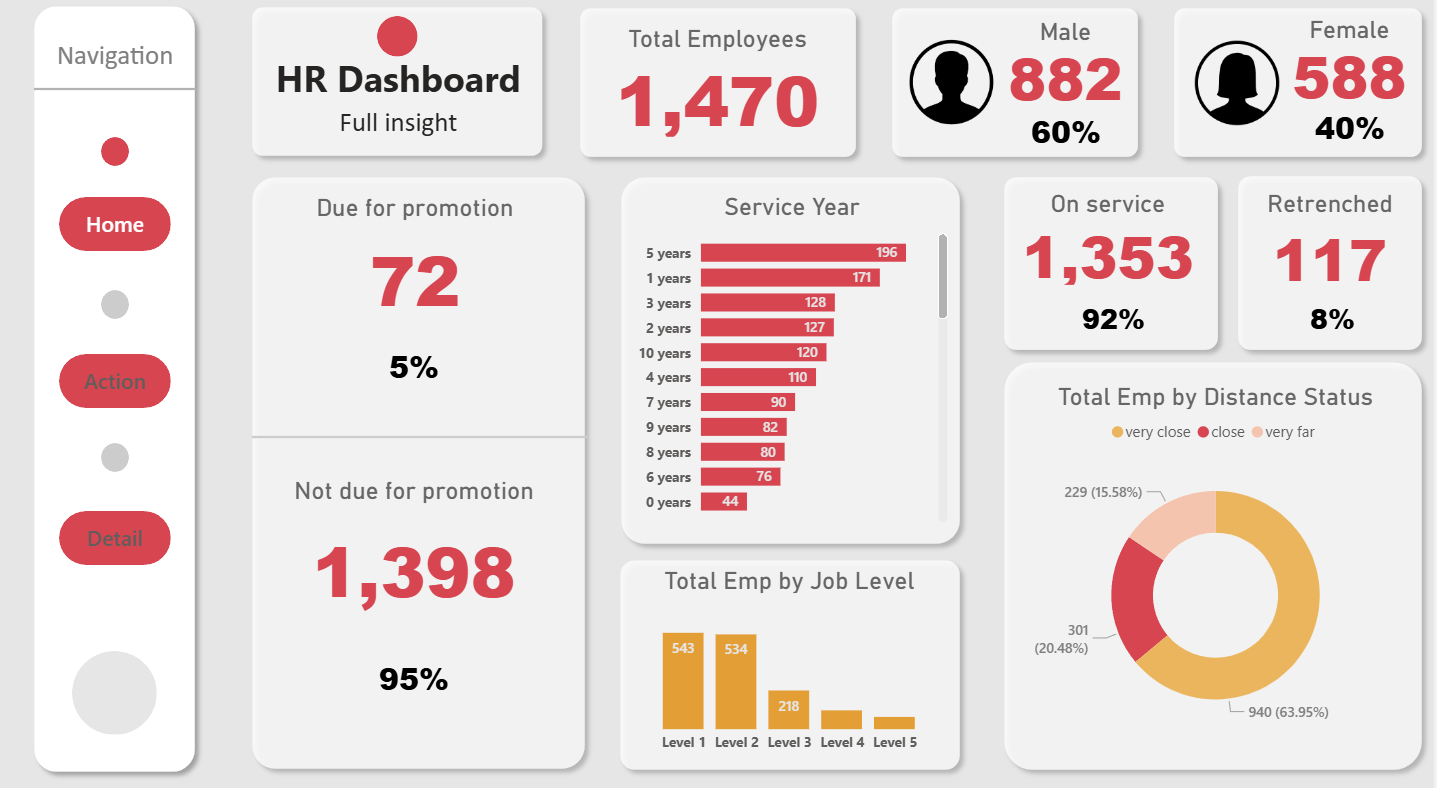

This screenshot's page, from the dashboard's own definition file:
{"tool":"powerbi","page":{"name":"Home","canvas":[1280,720],"ordinal":0},"visuals":[{"type":"shape","box":[31.9,8.9,160.5,696.9],"z":0},{"type":"shape","box":[225.4,9.7,275.3,149.8],"z":1000},{"type":"shape","box":[516.1,10.6,262.5,149.9],"z":2000},{"type":"shape","box":[792.7,10.6,235.9,149.9],"z":3000},{"type":"shape","box":[1042.8,10.6,237.6,149.9],"z":4000},{"type":"shape","box":[225.2,160.5,313,542.7],"z":5000},{"type":"shape","box":[552.4,160.5,318.3,343.2],"z":6000},{"type":"shape","box":[551.5,500.1,319.2,203.9],"z":7000},{"type":"shape","box":[892,160.5,207.5,171.1],"z":8000},{"type":"shape","box":[1099.5,159.6,180.9,172],"z":9000},{"type":"shape","box":[892,324.5,388.4,379.5],"z":10000},{"type":"textbox","box":[240,54.5,247.1,59.3],"z":11000},{"type":"textbox","box":[240,100.2,247.1,59.3],"z":12000},{"type":"shape","box":[345,26.3,36,36],"z":13000},{"type":"card","title":"Total Employees","fields":{"Values":["All Measures.Total Emp"]},"box":[538.2,33.7,217.2,104.6],"z":14000},{"type":"card","title":"Male","fields":{"Values":["All Measures.Male"]},"box":[899.1,27.5,112.6,80.7],"z":15000},{"type":"card","title":"Male","fields":{"Values":["All Measures.% male"]},"box":[910.6,68.3,90.4,123.3],"z":16000},{"type":"card","title":"Female","fields":{"Values":["All Measures.Female"]},"box":[1150.9,25.7,112.6,80.7],"z":17000},{"type":"card","title":"Male","fields":{"Values":["All Measures.% female"]},"box":[1162.5,64.7,90.4,123.3],"z":18000},{"type":"image","box":[808.7,41.7,90.4,86.9],"z":19000},{"type":"image","box":[1064,43.4,86.9,85.1],"z":20000},{"type":"card","title":"Due for promotion","fields":{"Values":["All Measures.Due for promotion"]},"box":[211,183.5,335.2,125],"z":21000},{"type":"card","title":"Male","fields":{"Values":["All Measures.% due for promotion"]},"box":[332.5,276.7,90.4,123.3],"z":22000},{"type":"card","title":"Not due for promotion","fields":{"Values":["All Measures.Not Due for promotion"]},"box":[250.9,434.5,253.6,138.3],"z":23000},{"type":"card","title":"Male","fields":{"Values":["All Measures.% Not due"]},"box":[332.5,553.3,90.4,123.3],"z":24000},{"type":"shape","box":[234.1,389.3,297.9,21.3],"z":25000},{"type":"barChart","title":"Service Year","fields":{"Category":["HR Analytics Data.Service Year"],"Y":["All Measures.Total Emp"]},"box":[570.1,182.7,285.5,297.9],"z":26000},{"type":"columnChart","fields":{"Category":["HR Analytics Data.Job Level"],"Y":["All Measures.Total Emp"]},"box":[574.6,514.3,272.2,174.7],"z":27000},{"type":"card","title":"On service","fields":{"Values":["All Measures.On service"]},"box":[910.6,180,164.9,90.4],"z":28000},{"type":"card","title":"Male","fields":{"Values":["All Measures.% on service"]},"box":[960.3,241.2,75.4,110],"z":29000},{"type":"card","title":"Retrenched","fields":{"Values":["All Measures.retrench"]},"box":[1107.5,180,164.9,96.7],"z":30000},{"type":"card","title":"Male","fields":{"Values":["All Measures.retrench %"]},"box":[1154.5,241.2,75.4,110],"z":31000},{"type":"donutChart","fields":{"Category":["HR Analytics Data.Distance Status"],"Y":["All Measures.Total Emp"]},"box":[919.5,351.1,337.8,325.4],"z":32000},{"type":"textbox","box":[55.9,40.8,119.7,39.9],"z":33000},{"type":"shape","box":[40.8,83.3,143.6,16],"z":34000},{"type":"shape","box":[100.2,133.9,24.8,25.7],"z":36000},{"type":"actionButton","title":"Home","box":[63,326.3,99.3,47.9],"z":37000},{"type":"shape","box":[100.2,269.6,24.8,25.7],"z":38000},{"type":"actionButton","title":"Home","box":[63,187.1,99.3,47.9],"z":38001},{"type":"shape","box":[100.2,405.2,24.8,25.7],"z":38003},{"type":"shape","box":[74.5,589.7,75.4,74.5],"z":38004},{"type":"actionButton","title":"Home","box":[63,465.5,99.3,47.9],"z":38005}]}

Visuals, with their boxes in screenshot pixels (x1, y1, x2, y2), scaled from the page's 1280x720 canvas onto the 1437x788 screenshot:
shape: BBox(36, 10, 216, 772)
shape: BBox(253, 11, 562, 175)
shape: BBox(579, 12, 874, 176)
shape: BBox(890, 12, 1155, 176)
shape: BBox(1171, 12, 1436, 176)
shape: BBox(253, 176, 604, 770)
shape: BBox(620, 176, 977, 551)
shape: BBox(619, 547, 977, 770)
shape: BBox(1001, 176, 1234, 363)
shape: BBox(1234, 175, 1436, 363)
shape: BBox(1001, 355, 1436, 770)
textbox: BBox(269, 60, 547, 125)
textbox: BBox(269, 110, 547, 175)
shape: BBox(387, 29, 428, 68)
"Total Employees" card: BBox(604, 37, 848, 151)
"Male" card: BBox(1009, 30, 1136, 118)
"Male" card: BBox(1022, 75, 1124, 210)
"Female" card: BBox(1292, 28, 1418, 116)
"Male" card: BBox(1305, 71, 1407, 206)
image: BBox(908, 46, 1009, 141)
image: BBox(1195, 47, 1292, 141)
"Due for promotion" card: BBox(237, 201, 613, 338)
"Male" card: BBox(373, 303, 475, 438)
"Not due for promotion" card: BBox(282, 476, 566, 627)
"Male" card: BBox(373, 606, 475, 741)
shape: BBox(263, 426, 597, 449)
"Service Year" barChart: BBox(640, 200, 961, 526)
columnChart - HR Analytics Data.Job Level x All Measures.Total Emp: BBox(645, 563, 951, 754)
"On service" card: BBox(1022, 197, 1207, 296)
"Male" card: BBox(1078, 264, 1163, 384)
"Retrenched" card: BBox(1243, 197, 1428, 303)
"Male" card: BBox(1296, 264, 1381, 384)
donutChart - HR Analytics Data.Distance Status x All Measures.Total Emp: BBox(1032, 384, 1412, 740)
textbox: BBox(63, 45, 197, 88)
shape: BBox(46, 91, 207, 109)
shape: BBox(112, 147, 140, 175)
"Home" actionButton: BBox(71, 357, 182, 410)
shape: BBox(112, 295, 140, 323)
"Home" actionButton: BBox(71, 205, 182, 257)
shape: BBox(112, 443, 140, 472)
shape: BBox(84, 645, 168, 727)
"Home" actionButton: BBox(71, 509, 182, 562)
